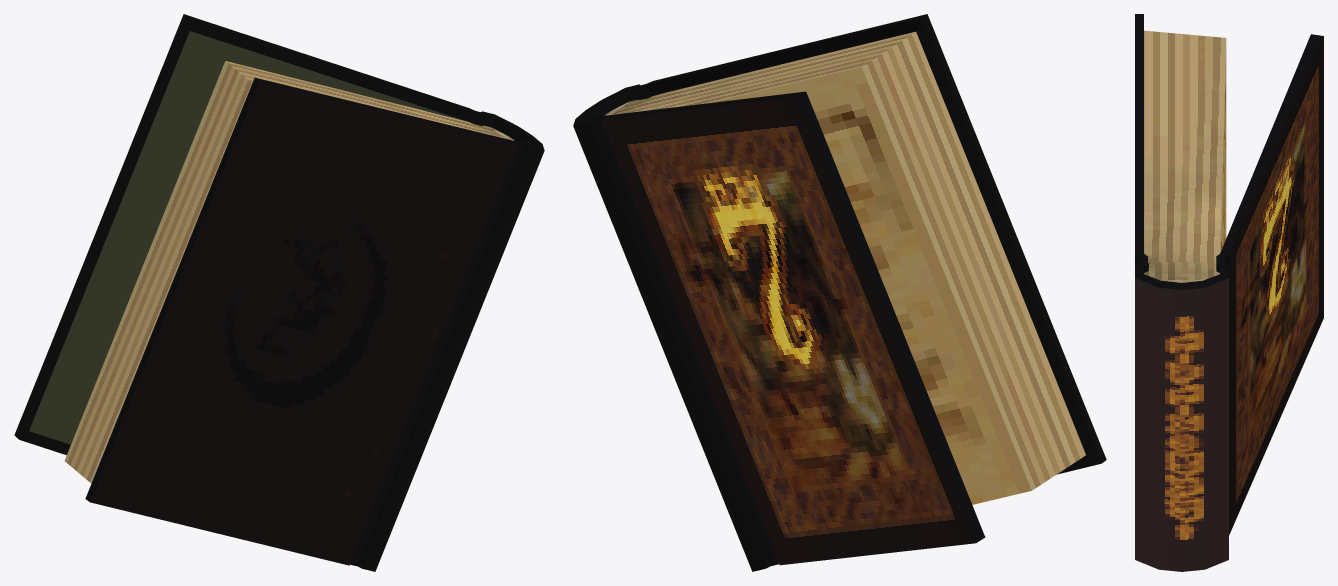
File: ps2_save-icons_sevenmolmorthnokiheitai.glb
3 views of the same model, side by side, from view 1: azimuth 30°, elevation 25°; view 2: azimuth 150°, elevation 25°; view 3: azimuth 270°, elevation 25° (orthographic). The views are drawn at different scales.
Parts seen in each view (by area): view 1: seven.ico; view 2: seven.ico; view 3: seven.ico.
Part boxes in pixels (x1,y1,x2,y2): seven.ico: (14, 14, 544, 571); seven.ico: (573, 14, 1106, 571); seven.ico: (1135, 14, 1323, 571).
Bounding box in the file's own units: 2.49 × 2.67 × 0.918.
Materials: 1 (1 with a texture image).
